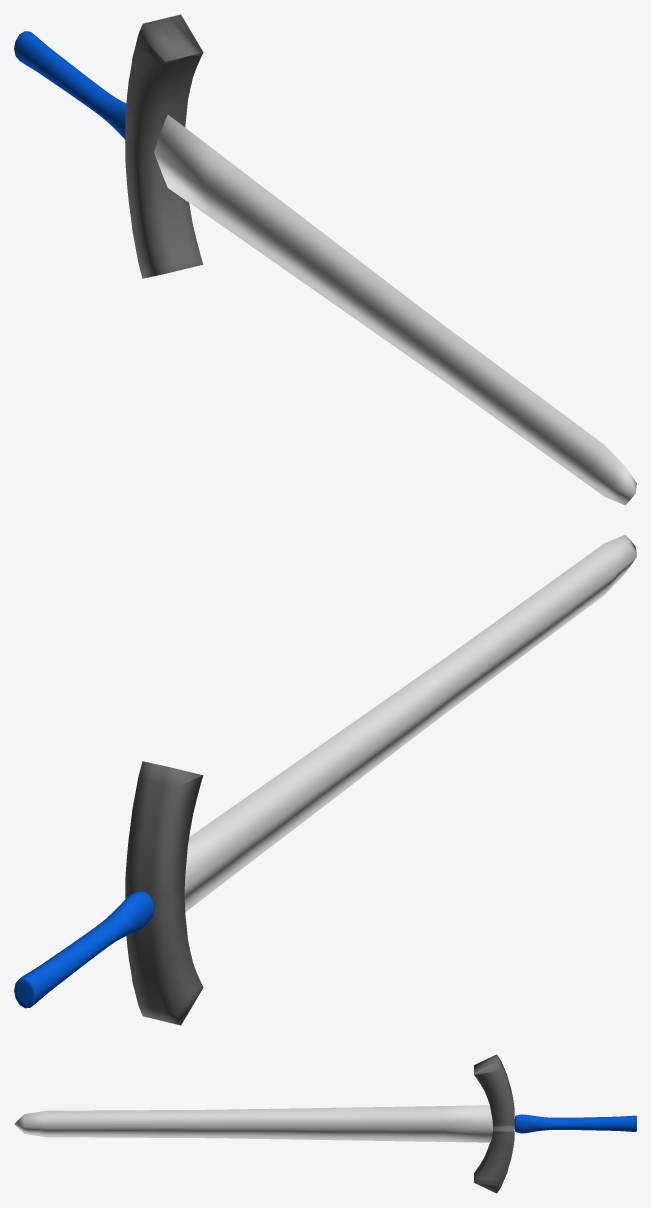
Rendered from dyurahanWeapon.fbx.
The picture shows the model from 3 angles, top to bottom: view 1: azimuth 30°, elevation 25°; view 2: azimuth 150°, elevation 25°; view 3: azimuth 270°, elevation 25°; orthographic projection. The views are drawn at different scales.
Visible parts, largest first — view 1: sowrd, tuba, tuka; view 2: sowrd, tuba, tuka; view 3: sowrd, tuba, tuka.
Boxes of the visible parts, x1,y1,x2,y2 form: sowrd: (154, 114, 636, 505); tuba: (125, 14, 203, 278); tuka: (14, 31, 126, 139); sowrd: (184, 534, 636, 911); tuba: (125, 761, 203, 1025); tuka: (14, 891, 154, 1008); sowrd: (14, 1105, 492, 1142); tuba: (474, 1054, 514, 1193); tuka: (514, 1114, 636, 1133).
Size of the model in its own units: 27.41 by 173 by 752.
